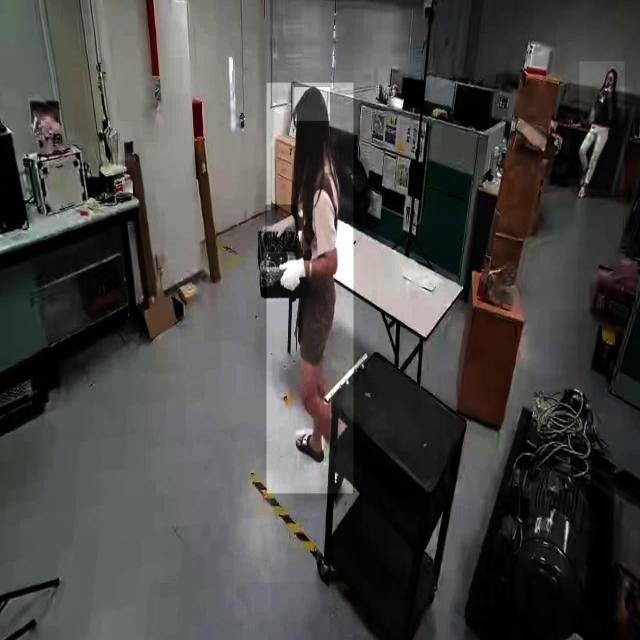hand_glove: (276, 249, 312, 307), (265, 204, 297, 252)
head_nohelmet: (294, 87, 330, 122), (606, 66, 618, 74)
person: (266, 83, 354, 494), (579, 61, 625, 196)
